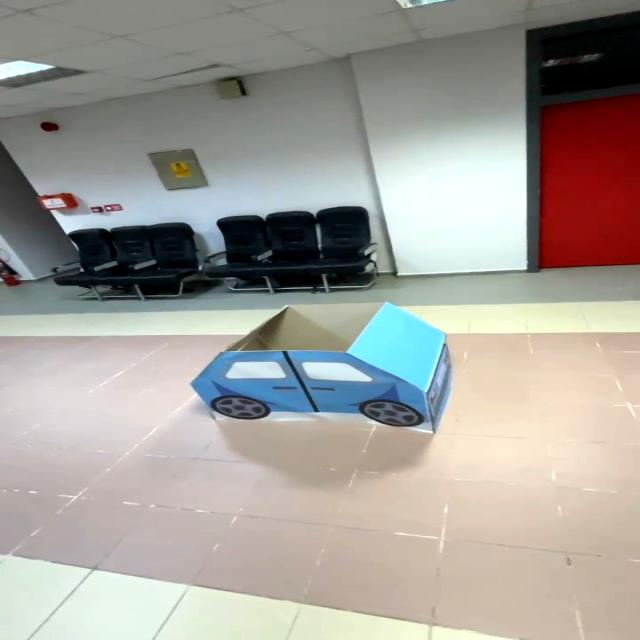blue_car: (162, 292, 489, 458)
